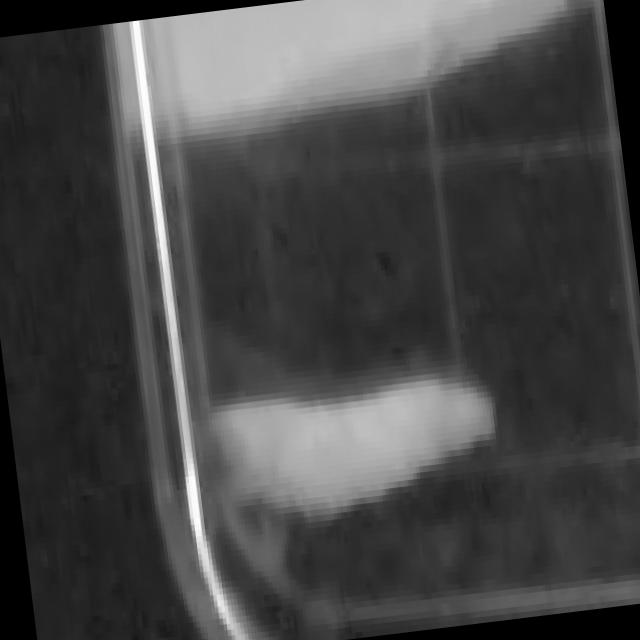larva: (183, 335, 520, 556)
